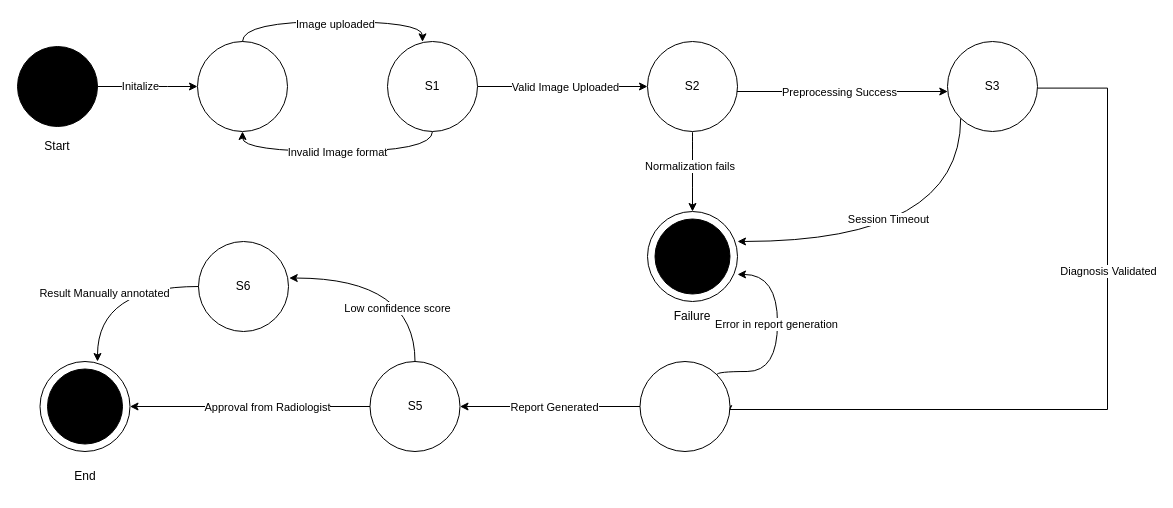
This 1173x508 diagram has some shape labels left out. Each missing label, with the box of its shape:
S0: (196, 40, 288, 132)
S4: (639, 360, 730, 452)
